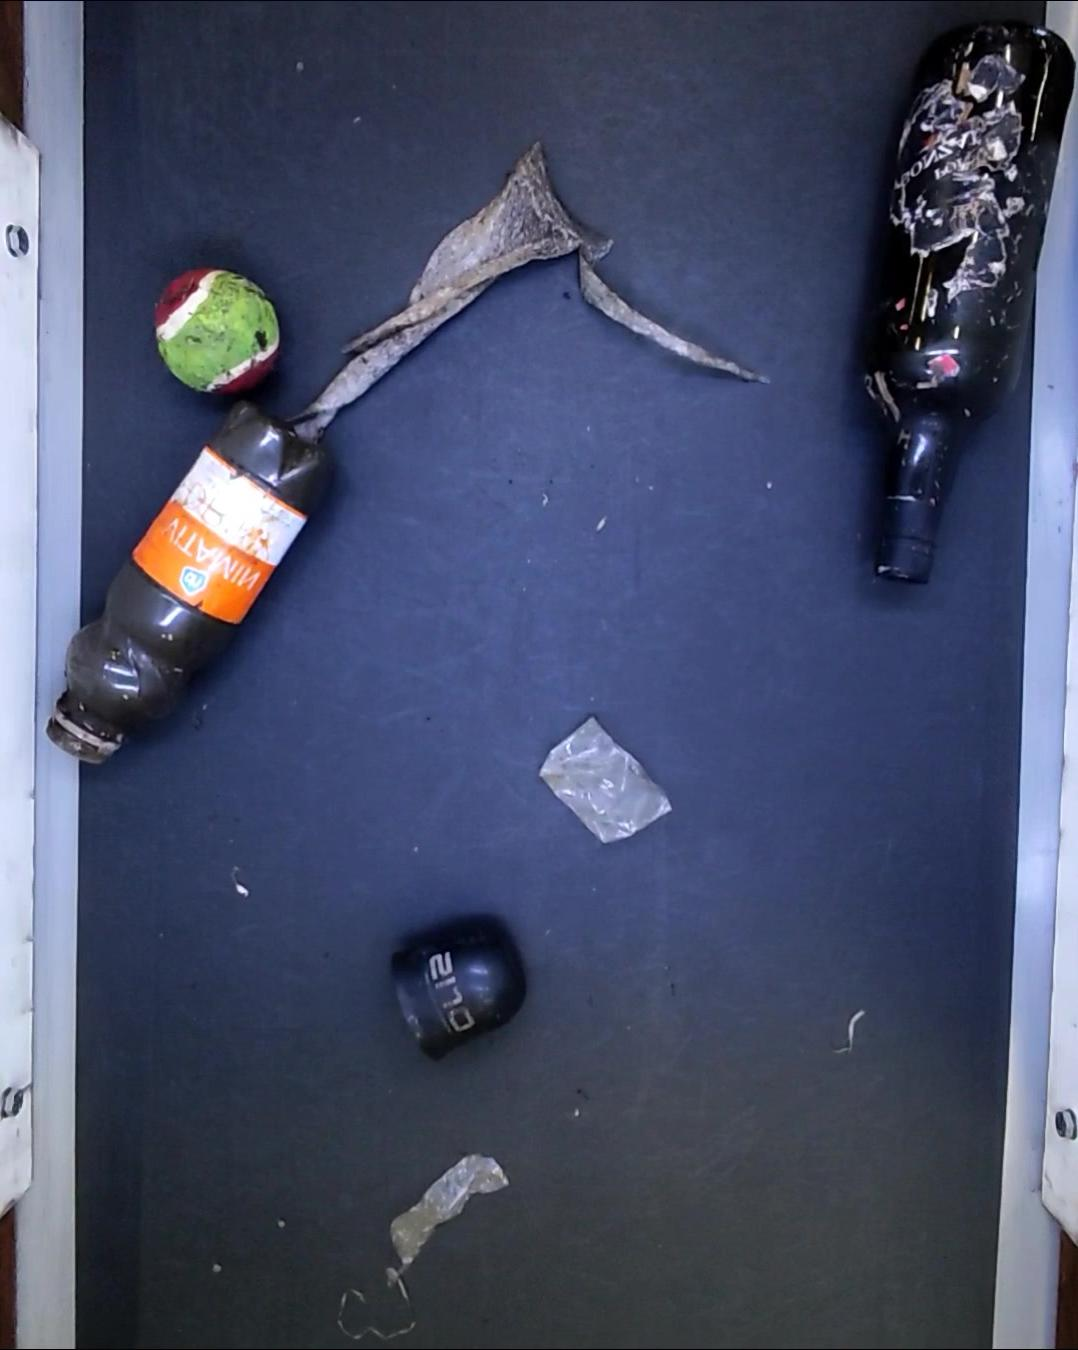Drankflessen - 1-2 liter: (46, 407, 332, 759)
Plastic folies of stukken daarvan 2.5- 50 cm: (290, 145, 762, 442), (530, 713, 673, 847), (383, 1157, 507, 1271)
